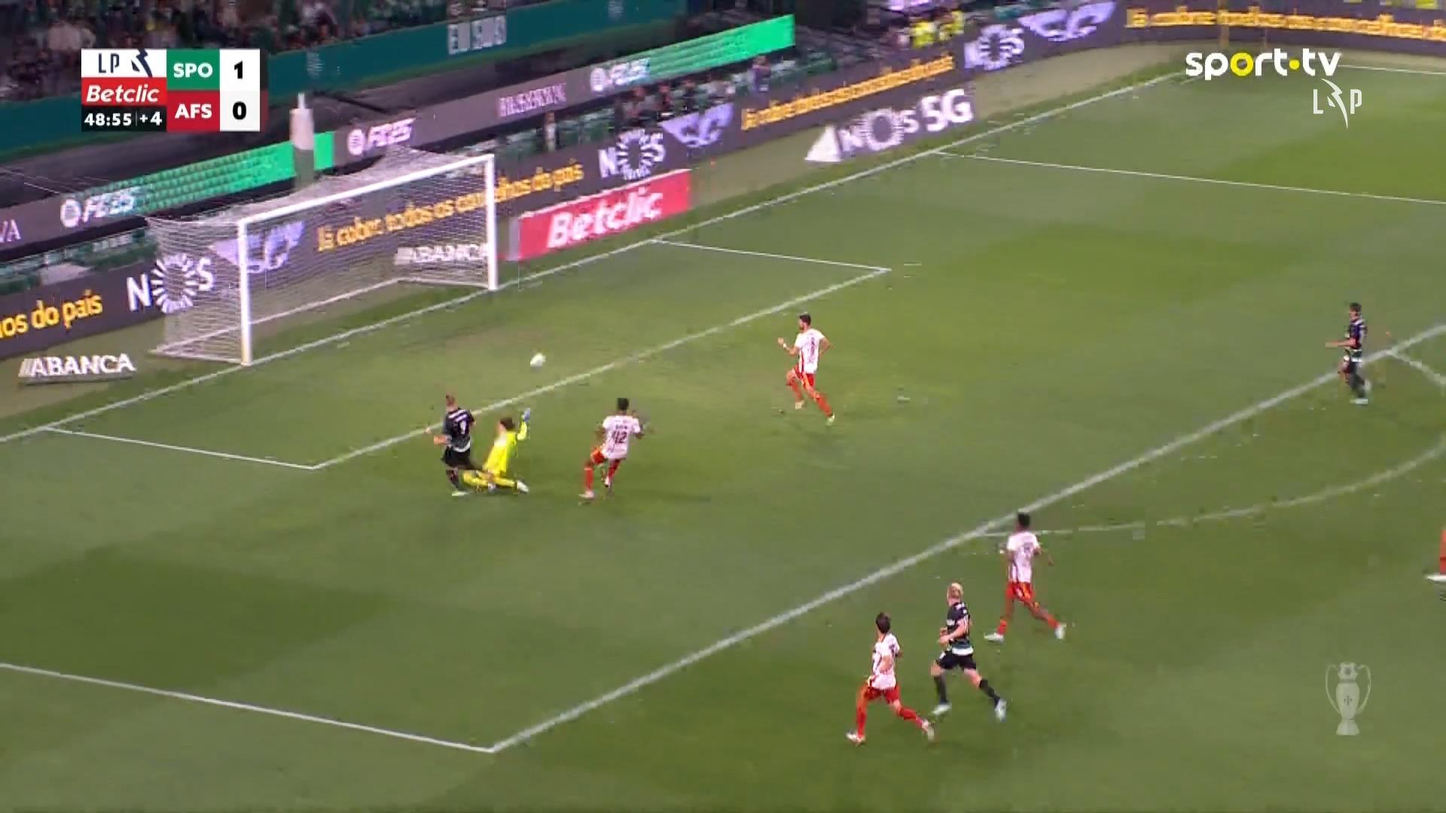ball: (529, 352, 545, 368)
goalkeeper: (459, 406, 532, 495)
player: (845, 611, 935, 746), (926, 581, 1008, 722), (983, 510, 1067, 642), (577, 396, 655, 501), (425, 392, 490, 497), (776, 312, 835, 426), (1324, 301, 1372, 404)
